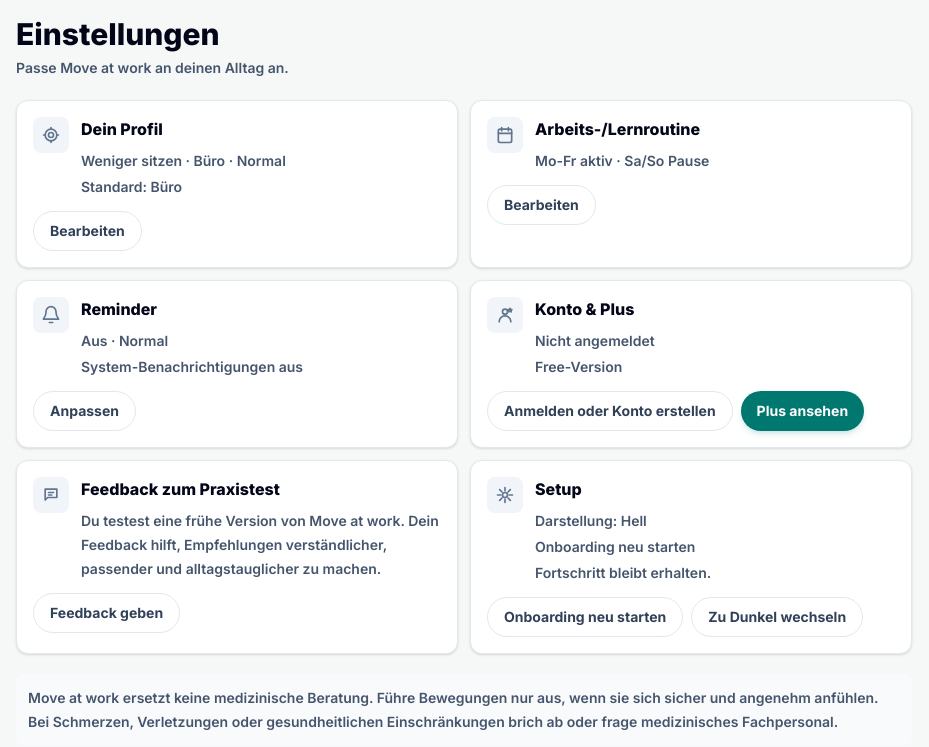
Test: SettingsScreen › opens reminder details with mode and do-not-disturb controls
This screenshot has width=929, height=747.
Click the button "Anpassen" at x=84, y=411, box [33, 391, 136, 431]
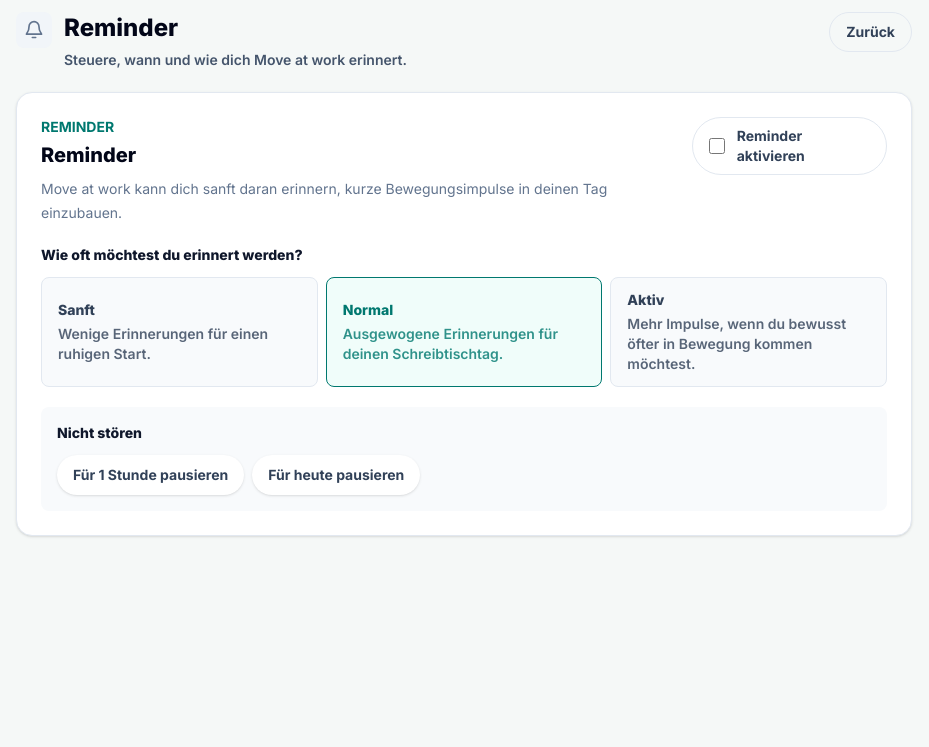
Now the text "Steuere, wann und wie dich Move at work erinnert." is shown, box [64, 48, 407, 72]
Now the text "Reminder aktivieren" is shown, box [692, 117, 887, 175]
Now the text "sanft" is shown, box [41, 180, 607, 221]
